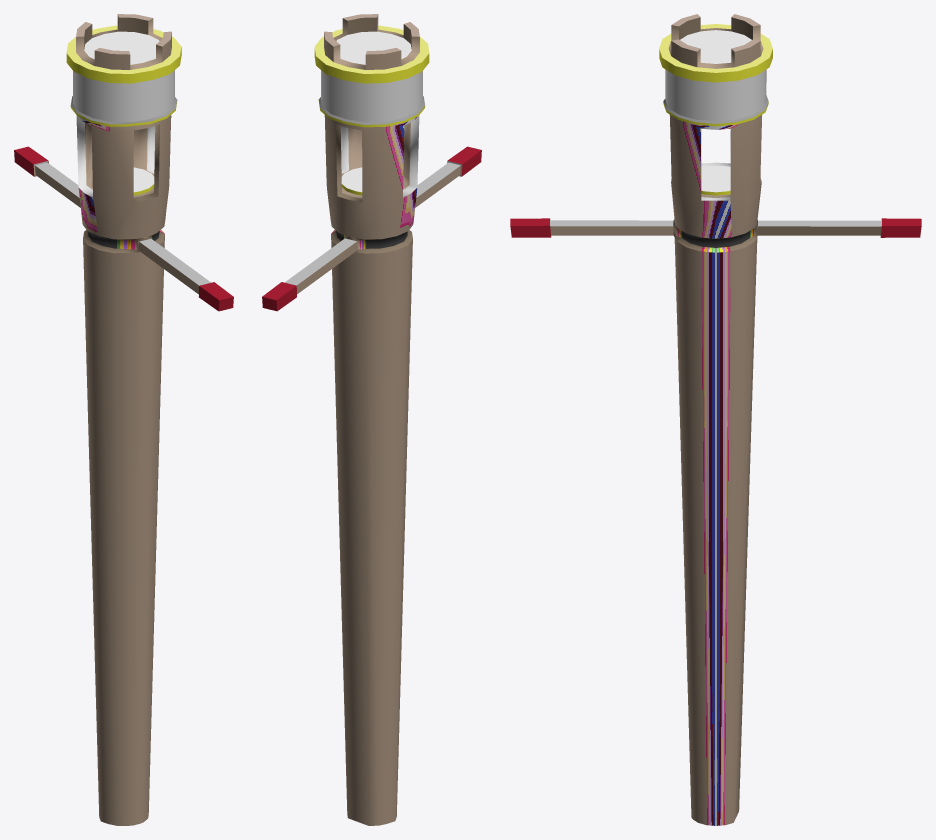
File: TurningKickPole.fbx
3 renders of one model, left to right at view 1: azimuth 30°, elevation 25°; view 2: azimuth 150°, elevation 25°; view 3: azimuth 270°, elevation 25°, orthographic.
Visible parts, largest first — view 1: pitTurningTrap_low; view 2: pitTurningTrap_low; view 3: pitTurningTrap_low.
Boxes of the visible parts, box(x1,y1,x2,y2) form: pitTurningTrap_low: box(14, 14, 233, 825); pitTurningTrap_low: box(262, 14, 481, 825); pitTurningTrap_low: box(510, 14, 921, 825).
Bounding box in the file's own units: 23.64 × 83.72 × 176.
